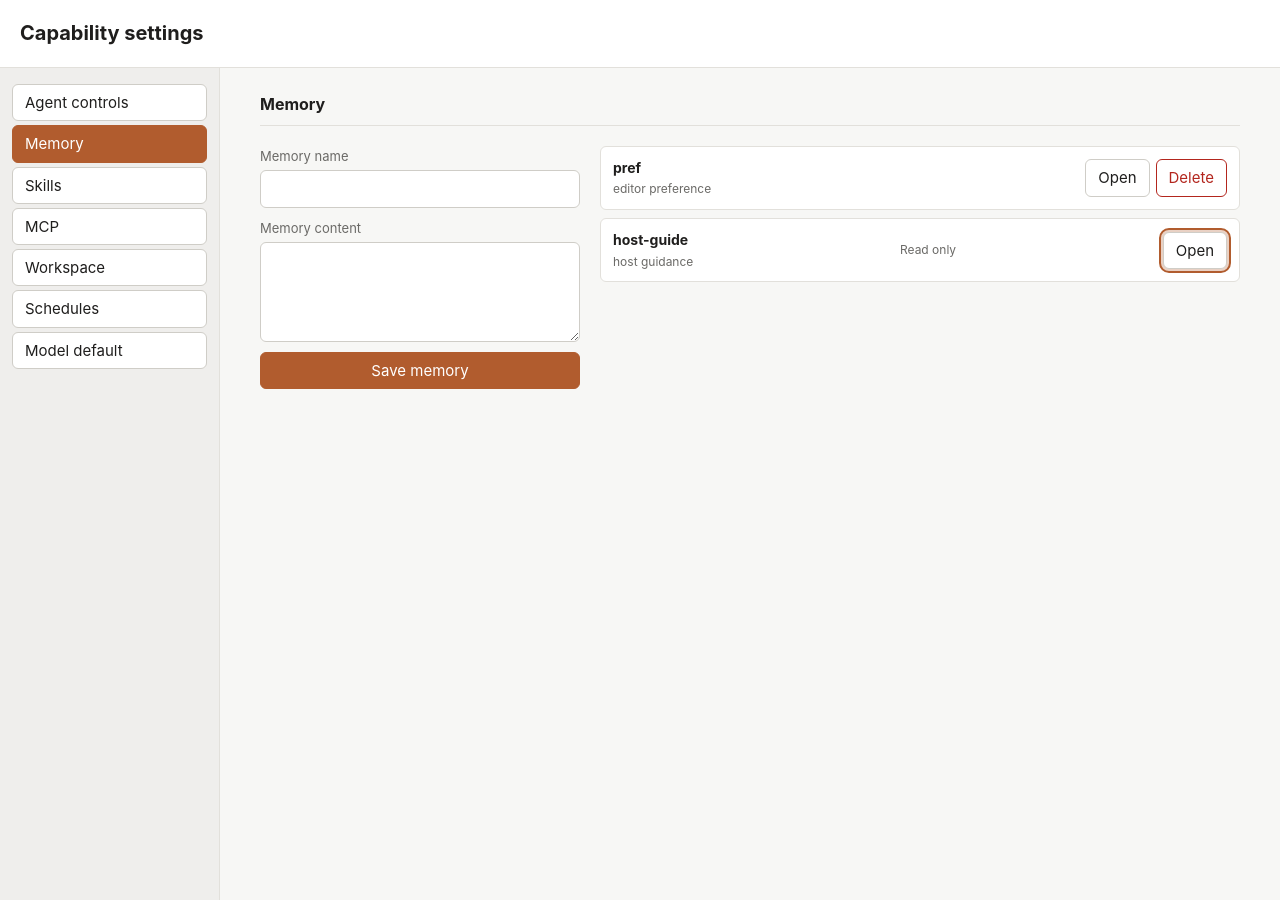
Test case: CapabilitySettingsView › opens shared memory in a safe read-only detail and restores focus
Click the button "Open" in the row of "host-guide" at (1195, 250), box [1163, 232, 1227, 269]
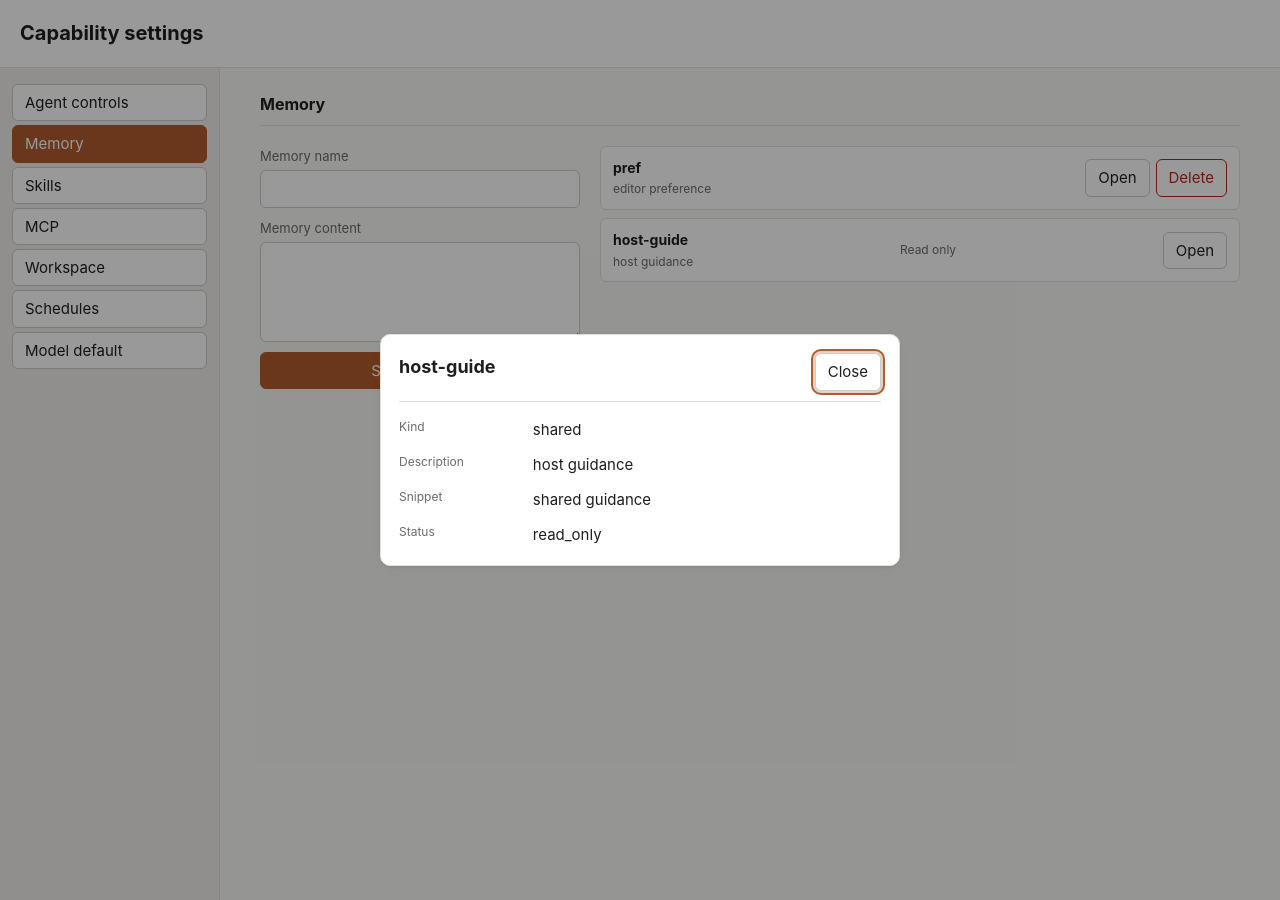
Check: the text "shared" is shown, box [533, 420, 581, 439]
Check: the text "host guidance" is shown, box [533, 455, 633, 474]
Check: the text "shared guidance" is shown, box [533, 490, 651, 509]
Press Escape in the dialog named "host-guide details", box [380, 334, 900, 566]
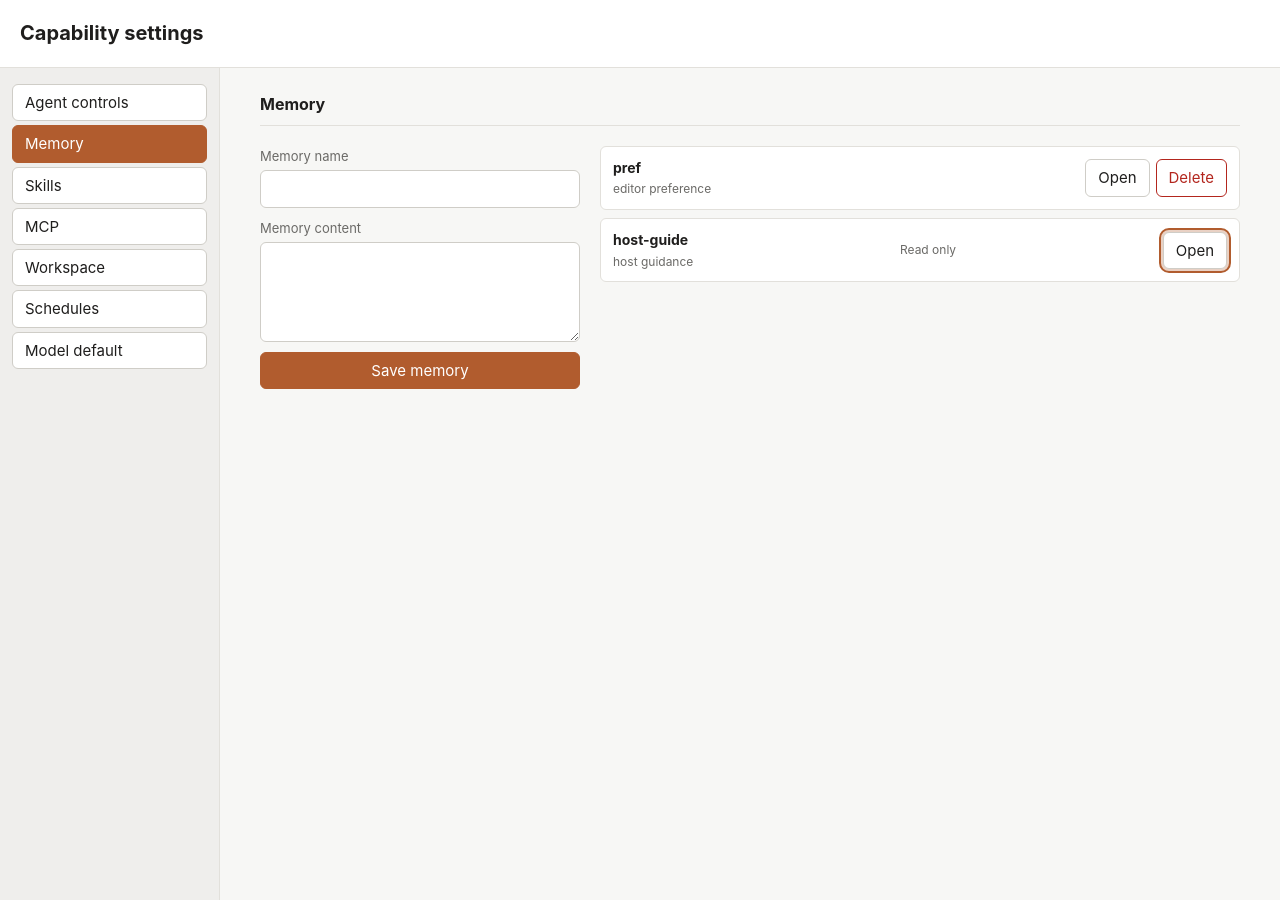
Check: the dialog is gone
